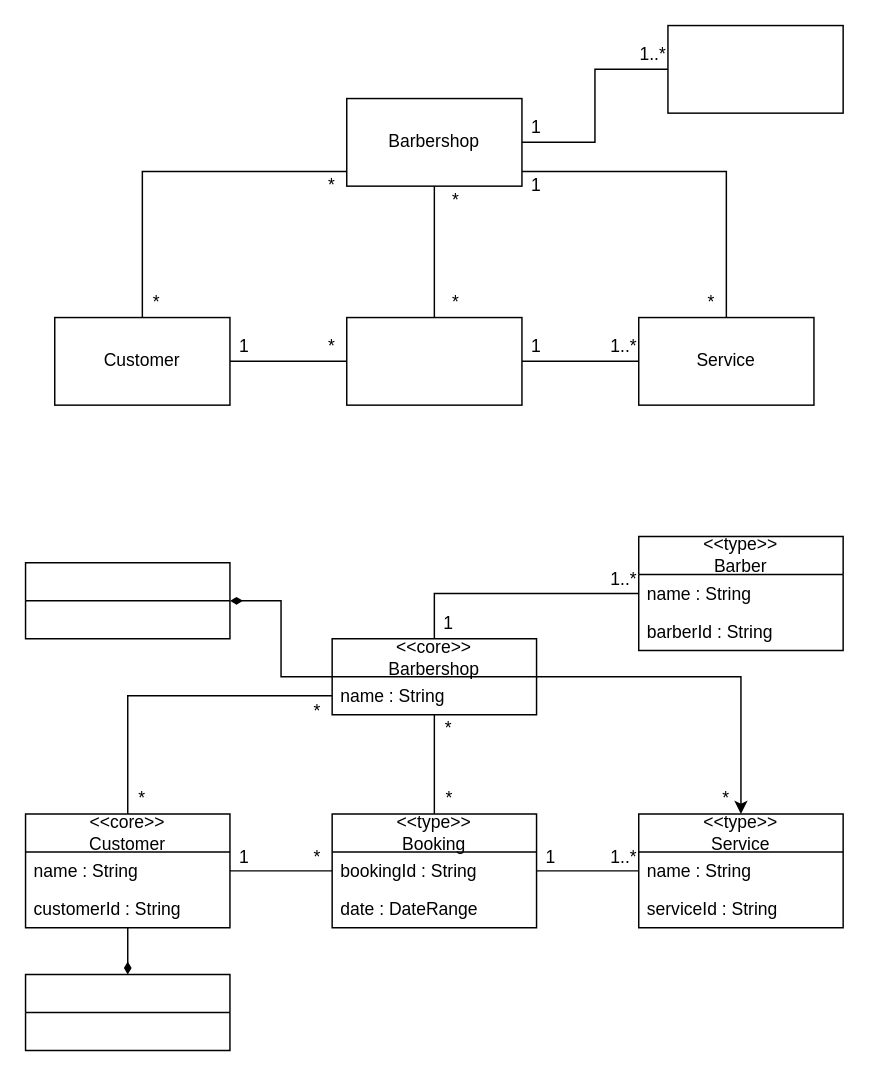
Some shapes in this 869 by 1076 pixel diagram are drawn without their labels. The shapes that lost their labels are listed below. From the top down, each one's centre as x and y in pixels, then its label:
the point at 754,68: Barber
the point at 433,360: Booking
the point at 127,600: <<interface type>> IBarbershopMgt
the point at 127,1011: <<interface type>> ICustomerMgt
